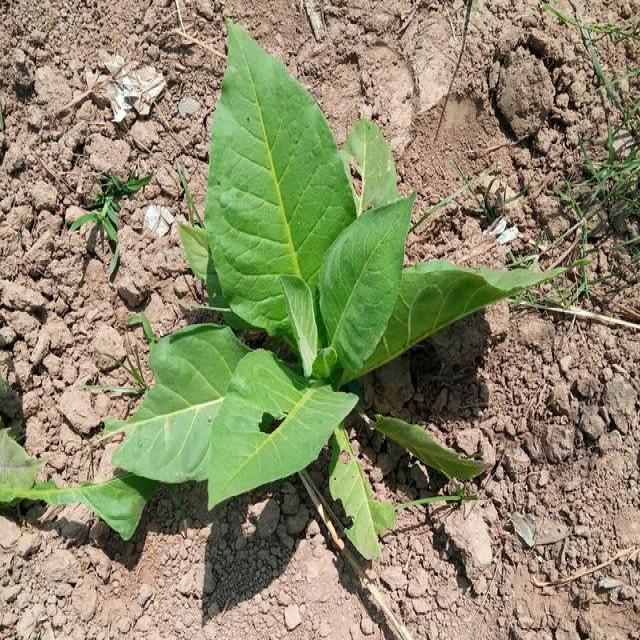crop: (114, 15, 559, 556)
